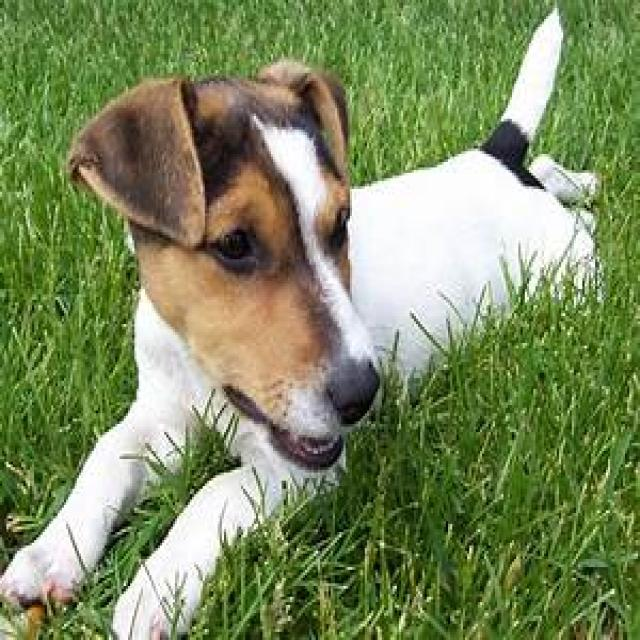dog: (0, 12, 603, 640)
